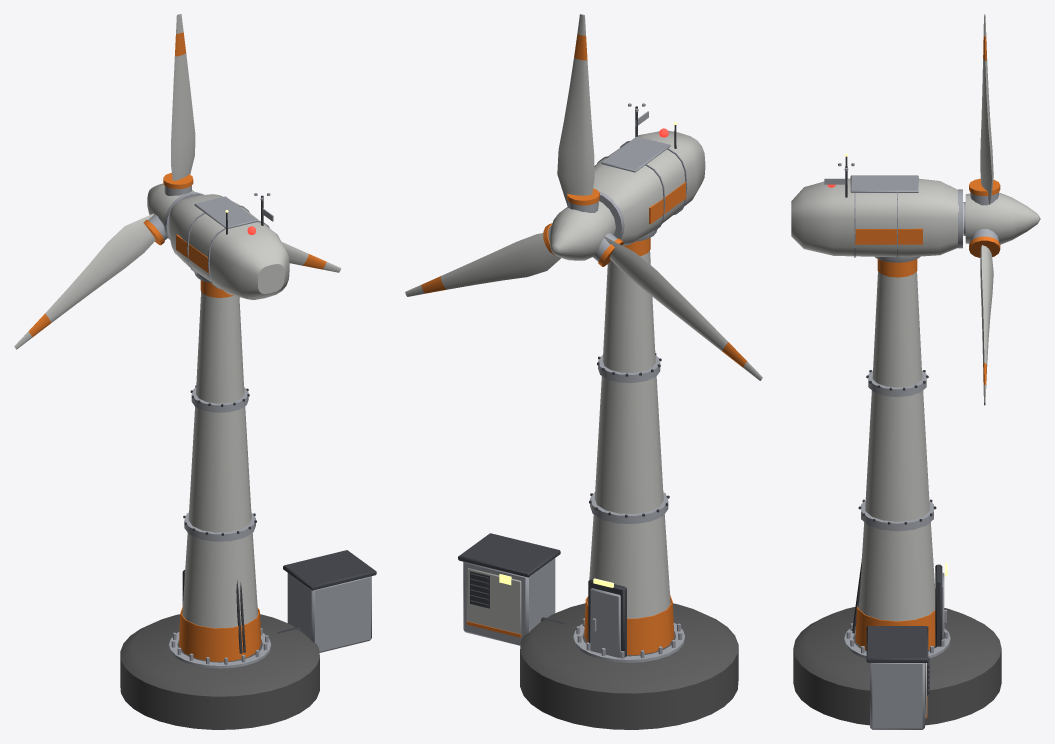
The model's file is wind_turbine_a.glb.
3 renders of one model, left to right at view 1: azimuth 30°, elevation 25°; view 2: azimuth 150°, elevation 25°; view 3: azimuth 270°, elevation 25°, orthographic. The views are drawn at different scales.
Parts seen in each view (by area): view 1: Tower, Rotor; view 2: Tower, Rotor; view 3: Tower, Rotor.
Part boxes in pixels (x1,y1,x2,y2): Tower: [120, 192, 376, 729]; Rotor: [14, 14, 341, 349]; Tower: [458, 103, 738, 729]; Rotor: [405, 14, 762, 380]; Tower: [791, 153, 1001, 729]; Rotor: [963, 14, 1040, 405].
Size of the model in its own units: 9.24 by 17.35 by 5.87.
